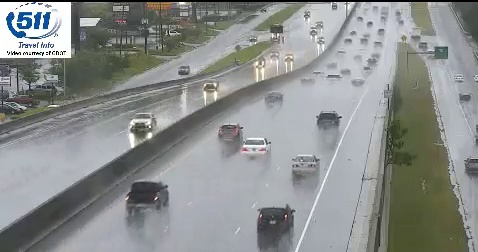car: (126, 181, 168, 208), (257, 204, 293, 232), (291, 154, 318, 175), (241, 138, 271, 156), (316, 111, 340, 129), (219, 124, 241, 140)
